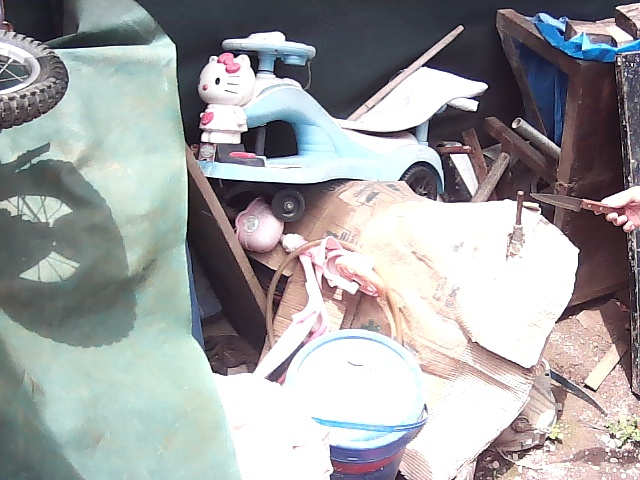cuchillo: (525, 188, 610, 218)
